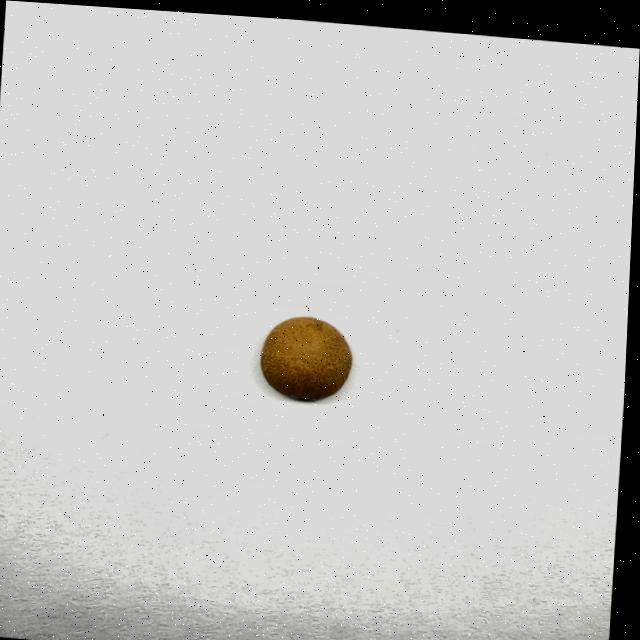Quaker: (260, 307, 358, 398)
